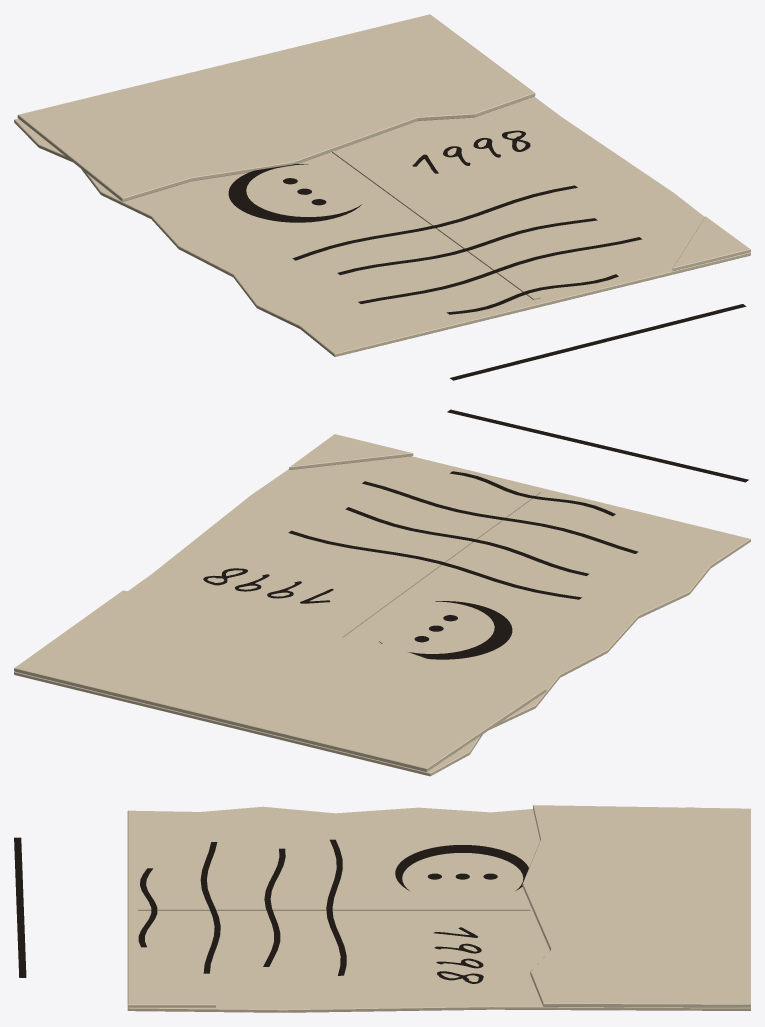
Rendered from leyla_note_1998.glb.
3 renders of one model, top to bottom at view 1: azimuth 30°, elevation 25°; view 2: azimuth 150°, elevation 25°; view 3: azimuth 270°, elevation 25°, orthographic. The views are drawn at different scales.
Visible parts, largest first — view 1: leyla_note_1998, ink; view 2: leyla_note_1998, ink; view 3: leyla_note_1998, ink.
Boxes of the visible parts, <box> form: leyla_note_1998: <box>14,14,750,356</box>; ink: <box>228,130,746,380</box>; leyla_note_1998: <box>14,434,750,776</box>; ink: <box>203,409,748,659</box>; leyla_note_1998: <box>127,805,750,1012</box>; ink: <box>14,837,528,983</box>.
Size of the model in its own units: 0.0928 by 0.0015 by 0.1419.
